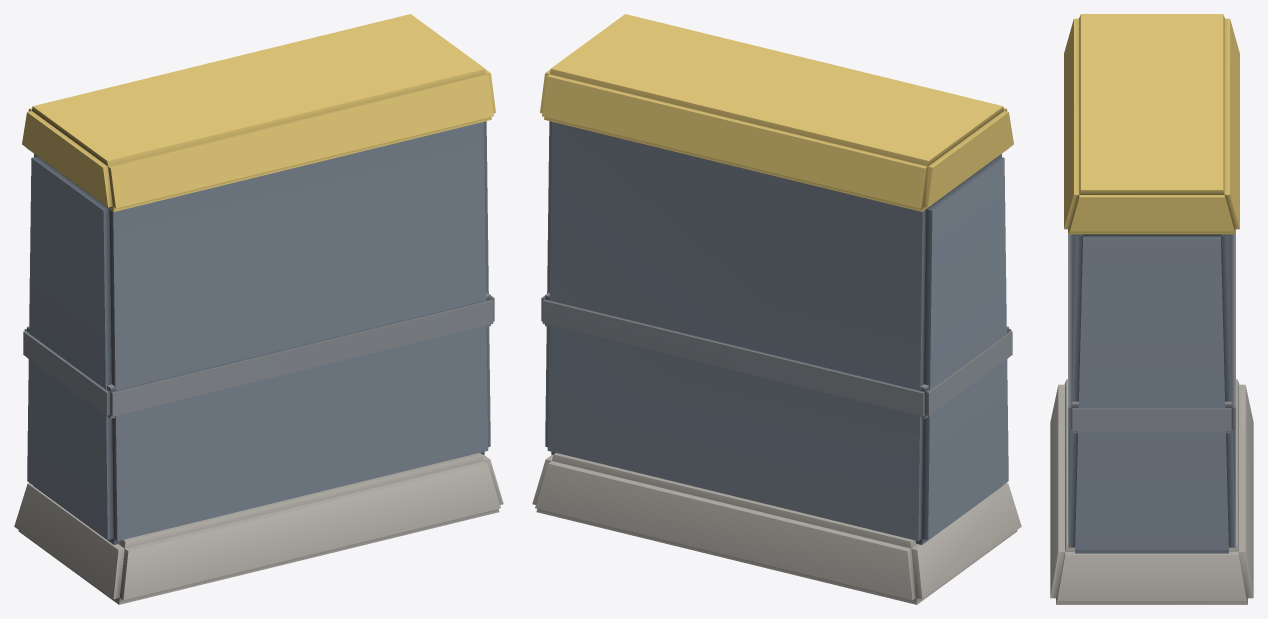
File: wall_lv3_connector_lod0.glb
3 views of the same model, side by side, from view 1: azimuth 30°, elevation 25°; view 2: azimuth 150°, elevation 25°; view 3: azimuth 270°, elevation 25° (orthographic). The views are drawn at different scales.
Parts seen in each view (by area): view 1: wall_lv3_connector; view 2: wall_lv3_connector; view 3: wall_lv3_connector.
Boxes of the visible parts, bbox=[...] form: wall_lv3_connector: bbox=[14, 14, 503, 604]; wall_lv3_connector: bbox=[532, 14, 1021, 604]; wall_lv3_connector: bbox=[1050, 14, 1253, 604].
Size of the model in its own units: 1.59 by 1.69 by 0.7515.
